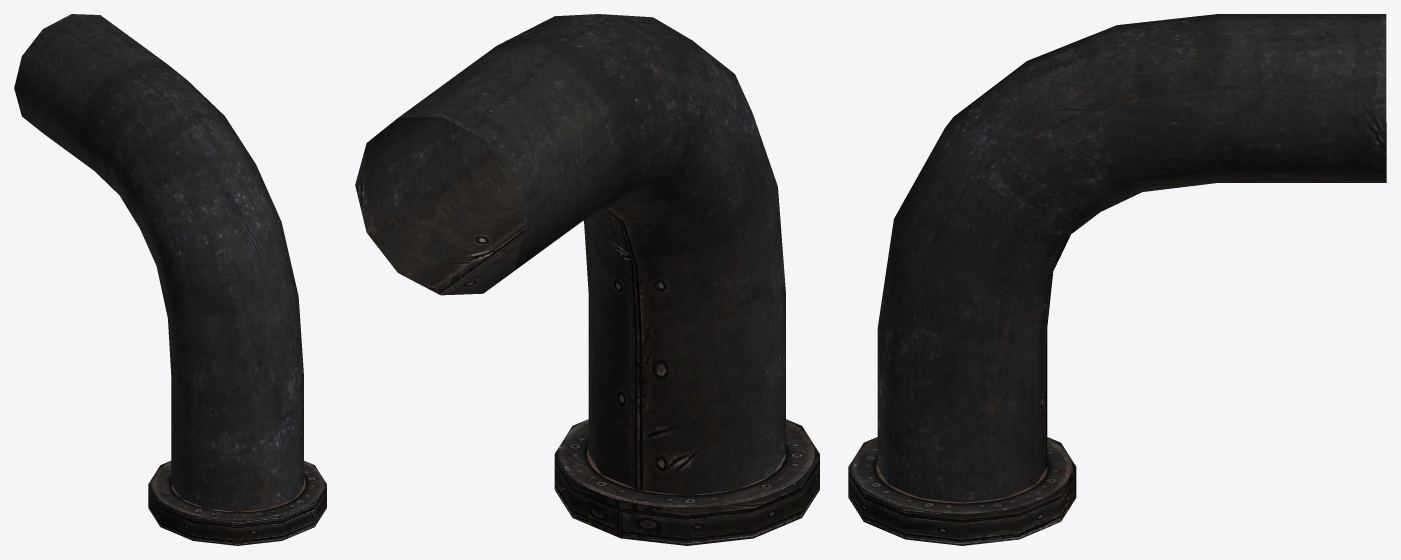
File: tesla_props_pipes_01_corner.dae
3 views of the same model, side by side, from view 1: azimuth 30°, elevation 25°; view 2: azimuth 150°, elevation 25°; view 3: azimuth 270°, elevation 25° (orthographic). The views are drawn at different scales.
Visible parts, largest first — view 1: telsa_props_pipes_02_corner1; view 2: telsa_props_pipes_02_corner1; view 3: telsa_props_pipes_02_corner1.
Boxes of the visible parts, <box> form: telsa_props_pipes_02_corner1: <box>14,14,326,545</box>; telsa_props_pipes_02_corner1: <box>355,14,819,545</box>; telsa_props_pipes_02_corner1: <box>848,14,1386,545</box>.
Bounding box in the file's own units: 1344 × 3098 × 3172.
